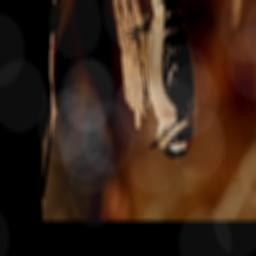Woodpecker: (125, 0, 196, 163)
